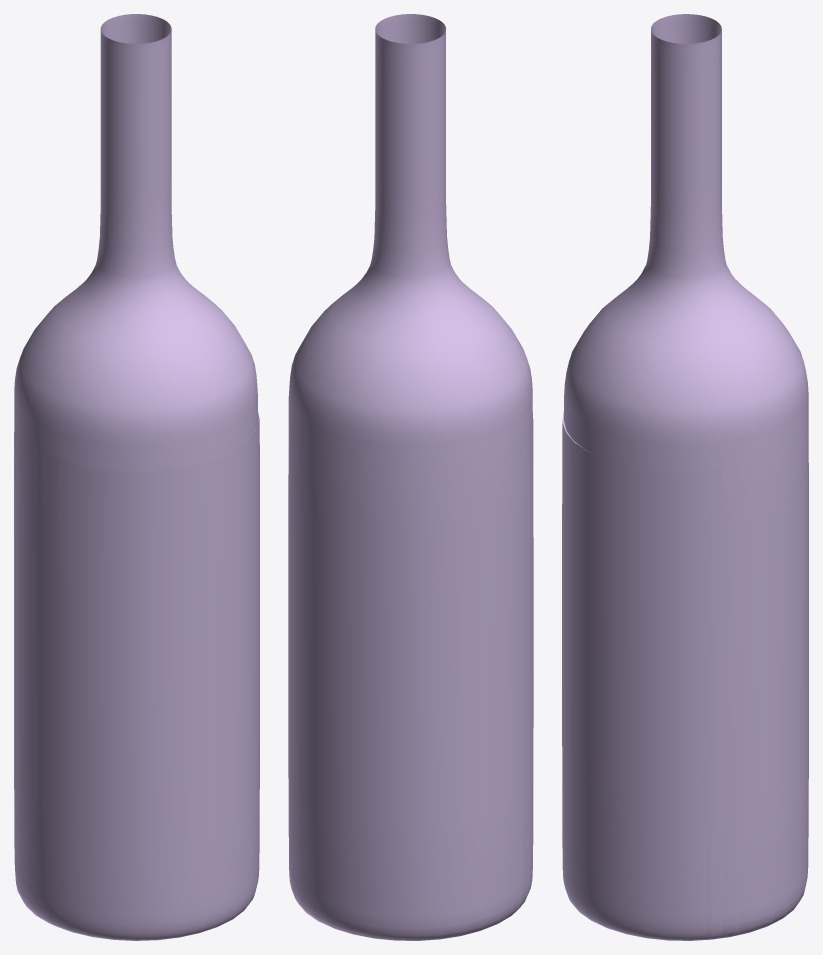
File: WineBottle_Inside.FBX
3 renders of one model, left to right at view 1: azimuth 30°, elevation 25°; view 2: azimuth 150°, elevation 25°; view 3: azimuth 270°, elevation 25°, orthographic.
Visible parts, largest first — view 1: AM104_016_obj_031, Object059; view 2: Object059, AM104_016_obj_031; view 3: Object059, AM104_016_obj_031.
Boxes of the visible parts, x1=… form: AM104_016_obj_031: x1=24, y1=412, x2=259, y2=940; Object059: x1=14, y1=14, x2=257, y2=929; Object059: x1=288, y1=14, x2=532, y2=940; AM104_016_obj_031: x1=488, y1=413, x2=533, y2=925; Object059: x1=564, y1=14, x2=808, y2=939; AM104_016_obj_031: x1=562, y1=412, x2=756, y2=940.
Bounding box in the file's own units: 0.0767 × 0.2985 × 0.0772.
